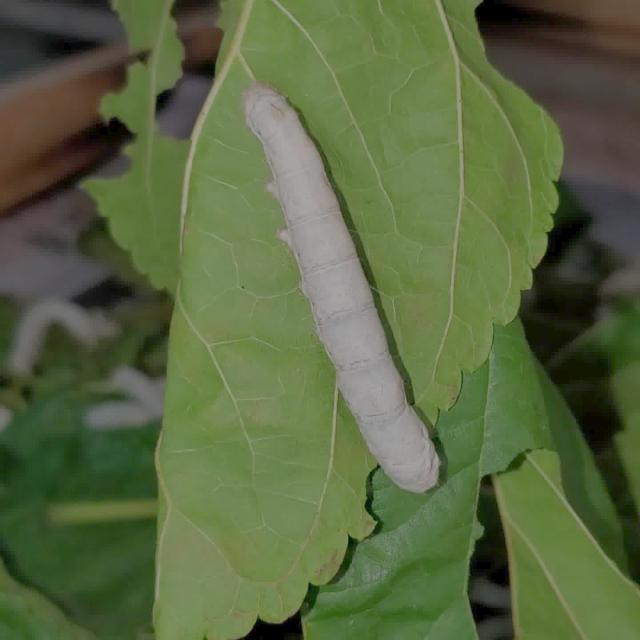Healthy: (224, 58, 489, 519)
